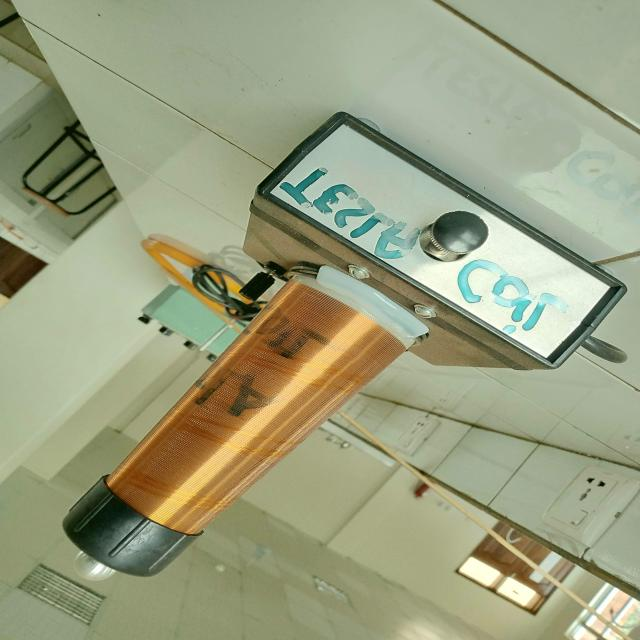Tesla Coil: (42, 111, 635, 598)
